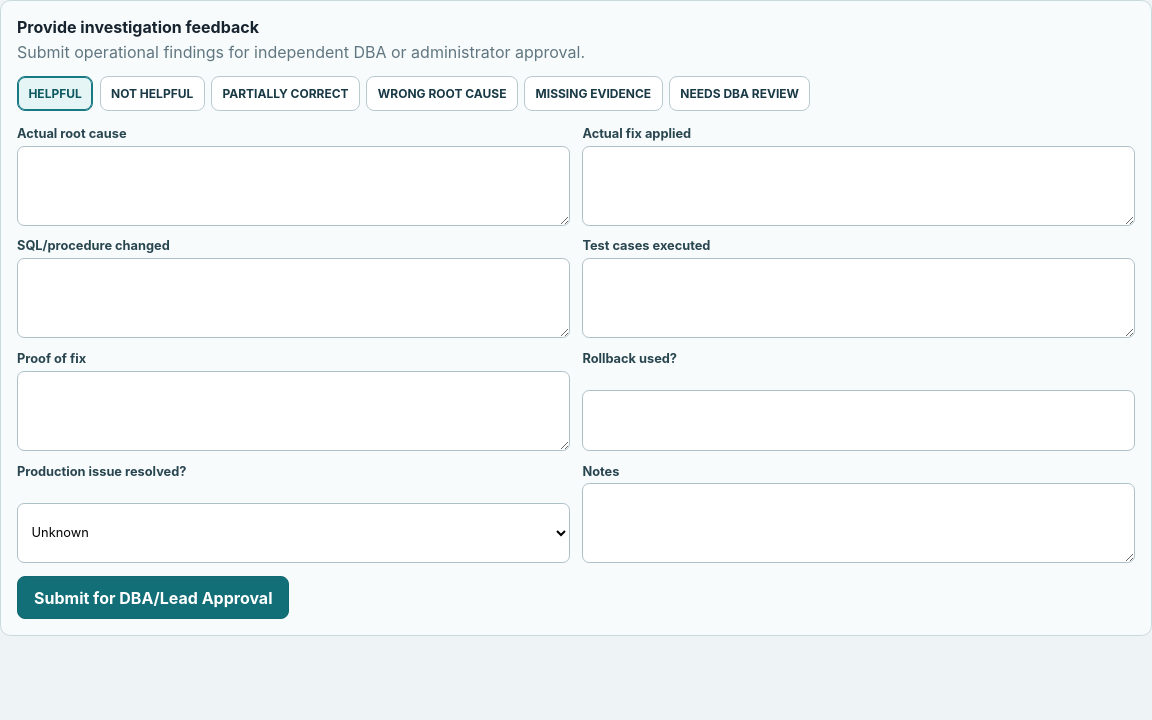
Test: FeedbackPanel › keeps the form available and does not report success when submission fails
The width and height of the screenshot is (1152, 720).
What coordinates should you click on to do the following:
click the button "Submit for DBA/Lead Approval"
I would click on:
 (153, 598)
Its box is top-left (17, 576), bottom-right (290, 619).
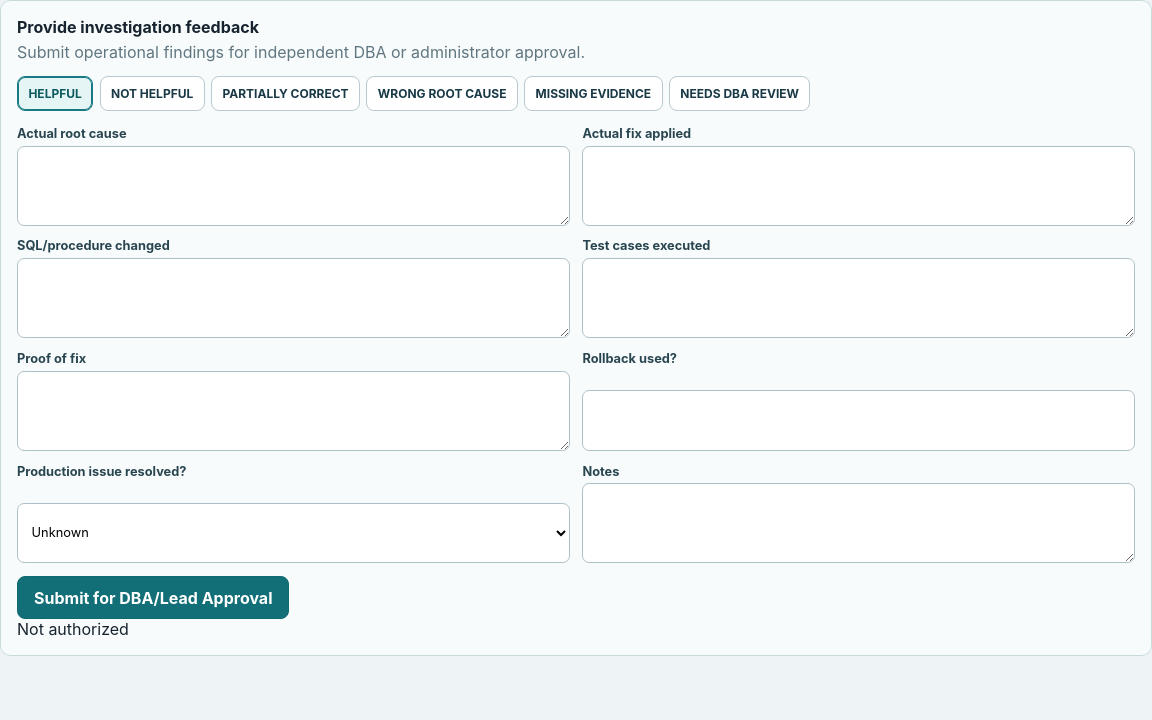
Expected: the message reads "Not authorized", top-left (17, 619), bottom-right (129, 639)
